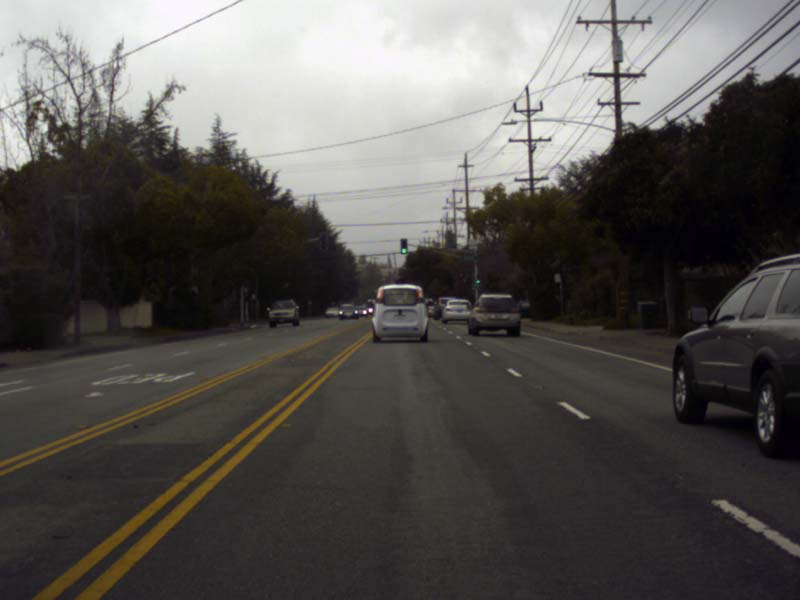Green: (400, 239, 406, 253), (476, 274, 479, 283)
